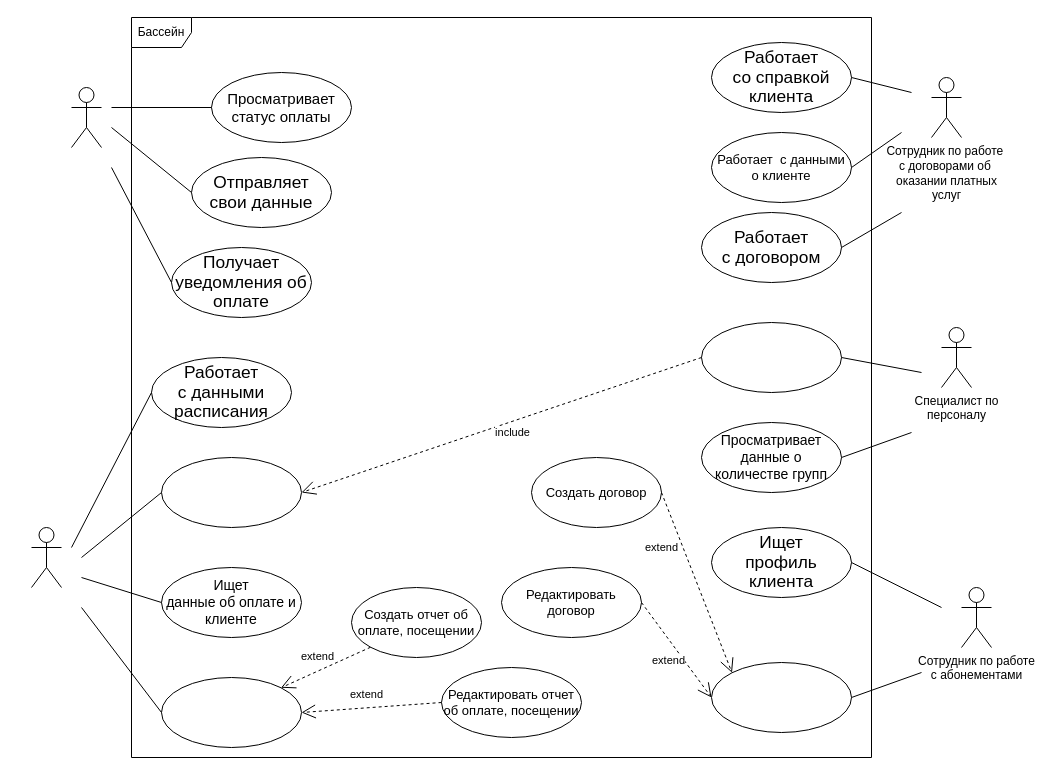
The diagram is 1052 pixels wide and 775 high, and some of its shapes have lost their labels. Here are the shapes that lost their labels. From the top down, the centre of each, then its label:
[86,117]: Клиент
[771,357]: Работает с данными тренеров, бассейна
[231,492]: Получает данные о свободном времени для посещения
[46,557]: Менеджер
[231,712]: Создаёт/редактирует отчеты об оплате, посещении
[781,697]: Оформляет/редактирует договор
